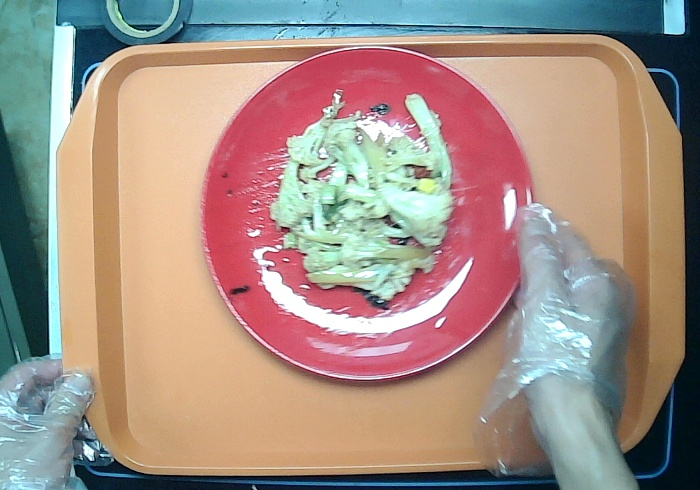HZYJPL-Hong_Se_Yuan_Pan: (202, 43, 534, 383)
